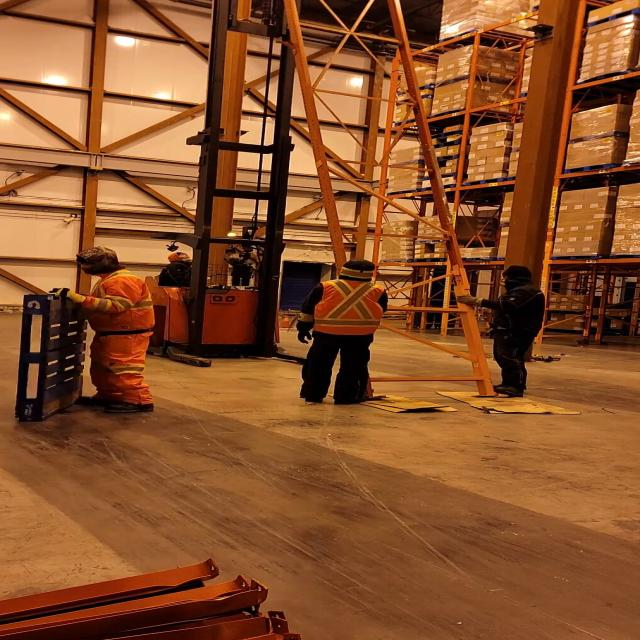forklift: (124, 130, 324, 368)
human: (55, 246, 169, 414), (292, 258, 386, 408), (456, 262, 549, 400), (145, 250, 211, 288)
objectofinterest: (275, 0, 514, 405), (14, 289, 89, 422), (432, 386, 586, 418), (336, 388, 463, 416)
